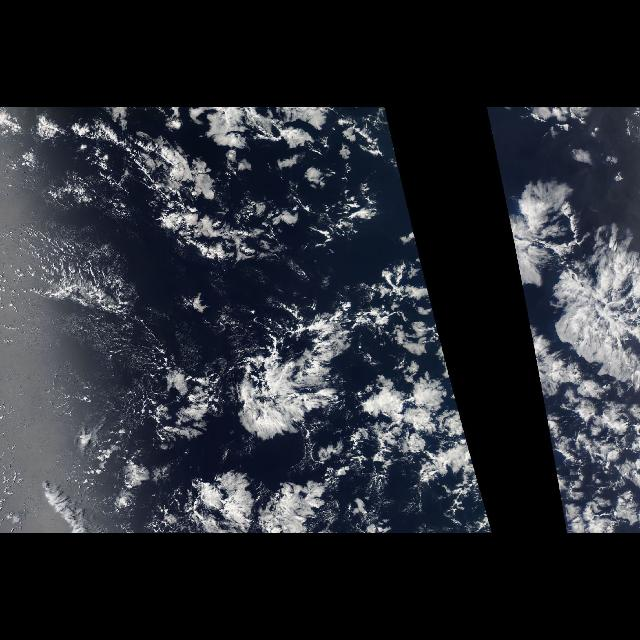Flower: (13, 113, 493, 533), (500, 187, 640, 533)
Sugar: (8, 214, 178, 476)
